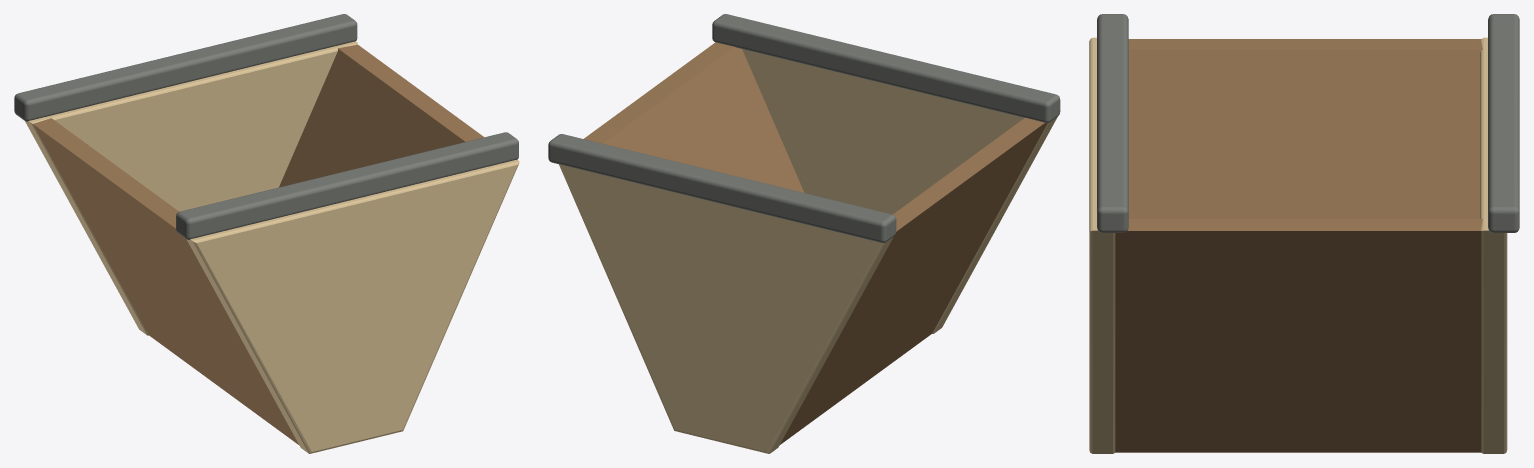
The model's file is grain-feed-hopper.glb.
3 views of the same model, side by side, from view 1: azimuth 30°, elevation 25°; view 2: azimuth 150°, elevation 25°; view 3: azimuth 270°, elevation 25° (orthographic). The views are drawn at different scales.
Visible parts, largest first — view 1: grain-feed-hopper; view 2: grain-feed-hopper; view 3: grain-feed-hopper.
Boxes of the visible parts, x1,y1,x2,y2 form: grain-feed-hopper: (14, 14, 519, 453); grain-feed-hopper: (548, 14, 1060, 453); grain-feed-hopper: (1089, 14, 1519, 453).
Size of the model in its own units: 0.81 by 0.606 by 0.7485.
